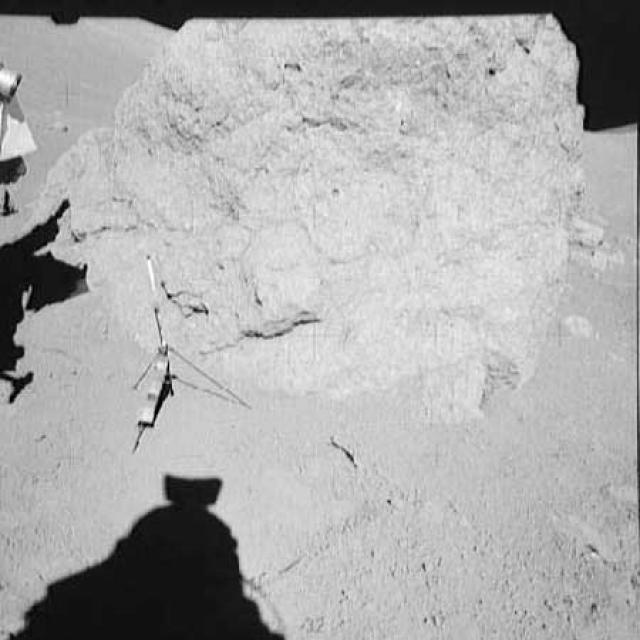artifact: (103, 251, 255, 456), (0, 66, 37, 222)
rock: (45, 14, 593, 412)
